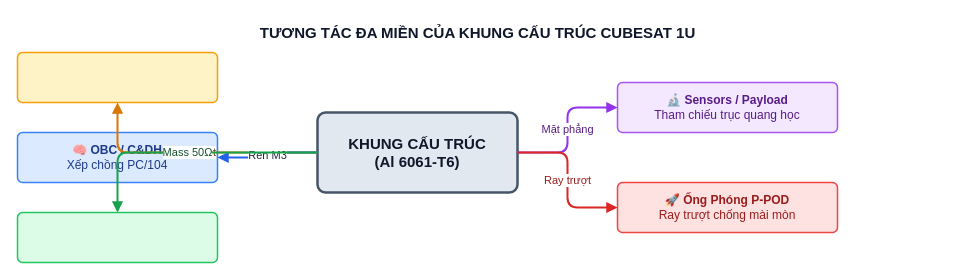
This 955x280 diagram has some shape labels left out. Each missing label, with the centre of its shape:
⚡ EPS Cố định pin & Tản nhiệt: (117,77)
📡 COM Mặt phẳng mass RF 50Ω: (117,237)
